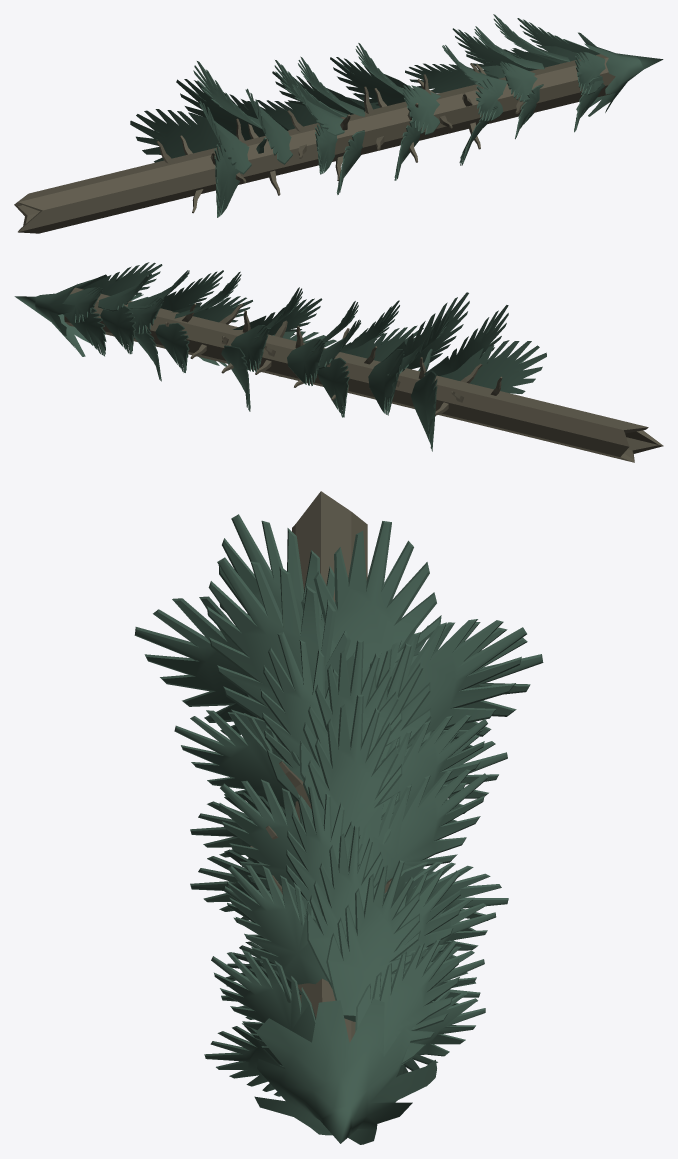
The model's file is Final_Fallen_Tree_with_Foliage.fbx.
The picture shows the model from 3 angles, top to bottom: view 1: azimuth 30°, elevation 25°; view 2: azimuth 150°, elevation 25°; view 3: azimuth 270°, elevation 25°; orthographic projection. The views are drawn at different scales.
Visible parts, largest first — view 1: polySurface2227, polySurface2224; view 2: polySurface2227, polySurface2224; view 3: polySurface2227, polySurface2224.
Part boxes in pixels (<box>): polySurface2227: <box>130,14,663,217</box>; polySurface2224: <box>14,54,615,233</box>; polySurface2227: <box>14,262,546,451</box>; polySurface2224: <box>64,287,663,462</box>; polySurface2227: <box>134,514,543,1144</box>; polySurface2224: <box>250,491,392,1042</box>.
Bounding box in the file's own units: 383 × 77.41 × 106.
